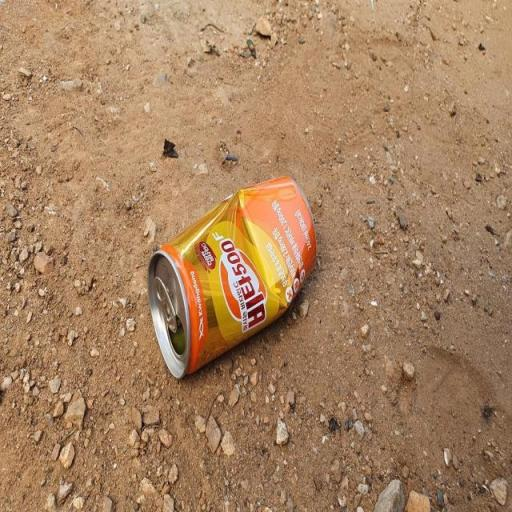metal: (136, 160, 340, 401)
